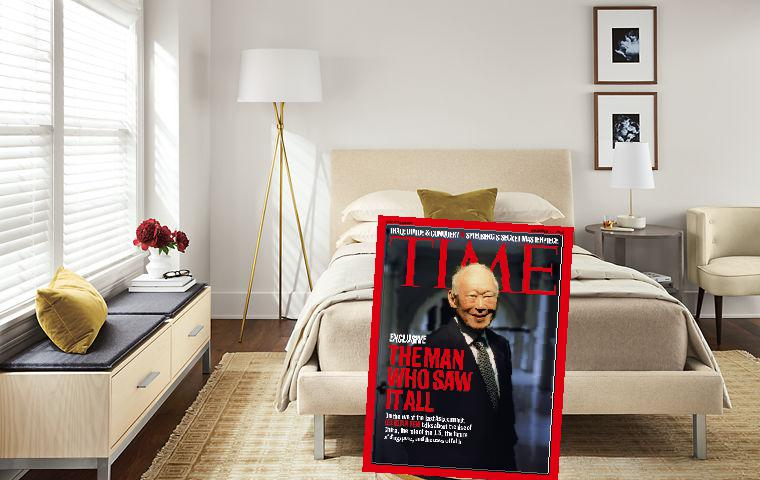times: (357, 221, 577, 480)
